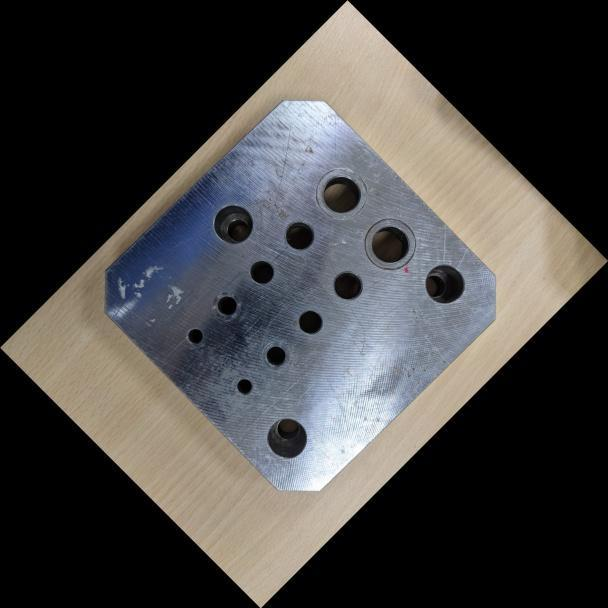hole: (346, 198, 436, 288), (299, 150, 385, 236), (249, 401, 325, 477), (408, 247, 480, 320), (197, 188, 268, 259), (270, 206, 328, 263), (319, 256, 376, 313), (199, 277, 256, 333), (284, 296, 334, 346), (237, 247, 287, 297), (251, 332, 300, 381), (222, 364, 268, 410), (174, 314, 217, 358)
